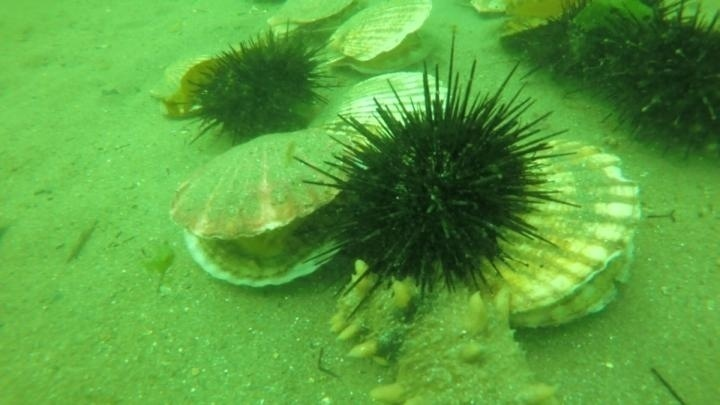echinus: (301, 57, 572, 310), (592, 3, 719, 162), (184, 26, 336, 150), (497, 1, 661, 93)
holothurian: (318, 260, 562, 404), (566, 1, 657, 39)
scallop: (442, 132, 647, 329), (166, 131, 356, 293), (330, 66, 451, 149), (324, 1, 436, 79), (147, 47, 231, 118), (265, 1, 365, 44)
